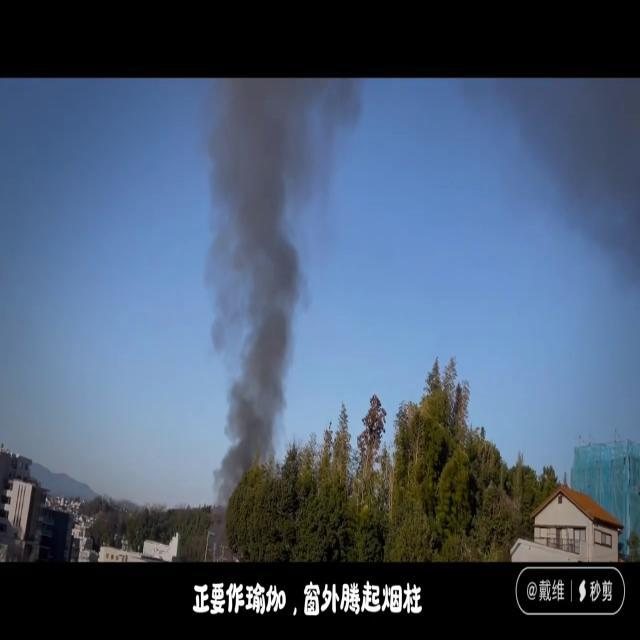Smoke: (196, 79, 335, 482), (545, 78, 640, 480)
